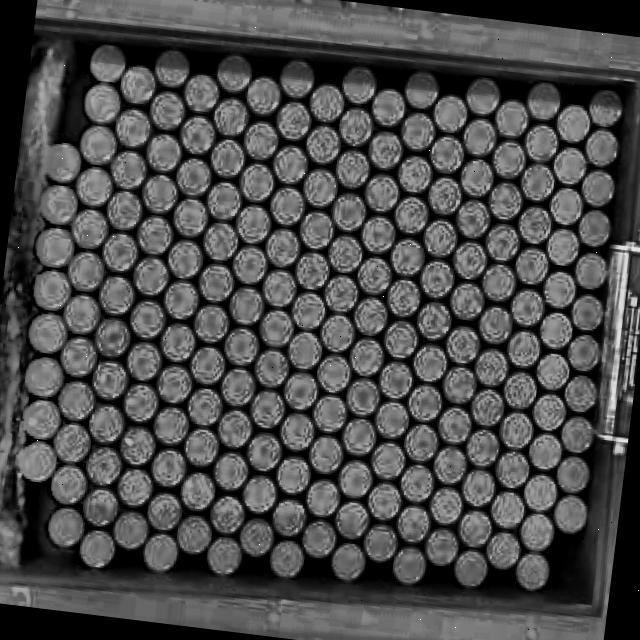vial: (492, 449, 531, 490), (124, 339, 162, 381), (87, 404, 126, 444), (298, 209, 336, 250), (159, 321, 197, 362), (141, 533, 178, 575), (217, 408, 254, 450), (155, 363, 193, 403), (234, 203, 272, 243), (289, 290, 327, 330), (310, 393, 348, 433), (337, 459, 375, 499), (47, 507, 84, 548), (123, 381, 159, 423), (330, 542, 366, 584), (40, 185, 78, 224), (244, 432, 282, 471), (272, 144, 309, 184), (212, 96, 249, 136), (77, 165, 114, 205), (43, 142, 80, 182), (26, 357, 63, 397), (112, 510, 149, 550), (189, 346, 226, 386), (231, 244, 268, 284), (294, 250, 331, 290), (258, 308, 295, 348), (223, 326, 260, 366), (219, 366, 256, 406), (472, 347, 509, 387), (64, 294, 100, 335), (253, 348, 289, 389), (374, 398, 410, 439), (241, 473, 277, 514), (399, 463, 435, 504), (239, 516, 275, 557), (452, 549, 488, 590), (502, 370, 538, 411), (460, 467, 496, 508), (30, 313, 65, 355), (275, 454, 310, 496), (553, 493, 588, 535), (369, 442, 407, 480), (98, 276, 135, 315), (23, 400, 60, 439), (555, 454, 592, 493), (522, 472, 559, 511), (309, 82, 345, 122), (183, 72, 219, 112), (111, 150, 147, 190), (80, 124, 116, 164), (137, 215, 173, 255), (72, 209, 108, 249), (187, 387, 223, 427), (264, 228, 300, 268), (228, 286, 264, 326), (308, 434, 344, 474), (320, 312, 355, 353), (217, 52, 252, 93), (280, 411, 315, 452), (250, 389, 285, 430), (334, 500, 369, 541), (367, 480, 402, 521), (392, 545, 427, 586), (88, 43, 125, 81), (49, 466, 86, 504), (305, 125, 341, 164), (275, 102, 311, 141), (102, 233, 138, 272), (120, 426, 156, 465), (82, 487, 118, 526), (210, 495, 246, 534), (315, 353, 351, 392), (406, 383, 442, 422), (437, 404, 473, 443), (528, 432, 564, 471), (458, 509, 494, 548), (342, 65, 377, 105), (238, 162, 273, 202), (246, 74, 281, 114), (37, 227, 72, 267), (86, 446, 121, 486), (287, 331, 322, 371), (349, 336, 384, 376), (378, 359, 413, 399), (305, 477, 340, 517), (301, 519, 336, 559), (269, 539, 304, 579), (363, 523, 398, 563), (490, 489, 525, 529), (485, 530, 520, 570), (433, 93, 467, 134), (404, 68, 438, 109), (214, 450, 248, 491), (202, 222, 239, 259), (34, 272, 71, 309), (302, 169, 338, 207), (210, 139, 246, 177), (176, 157, 212, 195), (115, 109, 151, 147), (133, 257, 169, 295), (58, 381, 94, 419), (79, 530, 115, 568), (464, 430, 500, 468), (394, 195, 429, 234), (401, 111, 436, 150), (368, 131, 403, 170), (339, 107, 374, 146), (150, 90, 185, 129), (142, 174, 177, 213), (85, 83, 120, 122), (69, 251, 104, 290), (95, 318, 130, 357), (61, 339, 96, 378), (151, 447, 186, 486), (262, 269, 297, 308), (283, 371, 318, 410), (413, 343, 448, 382), (404, 423, 439, 462), (442, 365, 477, 404), (564, 374, 599, 413), (469, 388, 504, 427), (519, 512, 554, 551), (555, 103, 589, 143), (417, 301, 451, 341), (390, 236, 424, 276), (466, 76, 500, 116), (335, 149, 369, 189), (371, 87, 405, 127), (280, 58, 314, 98), (22, 441, 56, 481), (342, 417, 376, 457), (396, 504, 430, 544), (425, 527, 459, 567), (429, 485, 463, 525), (515, 552, 549, 592), (193, 305, 229, 342), (53, 424, 89, 461), (153, 407, 189, 444), (455, 199, 490, 237), (244, 121, 279, 159), (181, 116, 216, 154), (168, 239, 203, 277), (92, 361, 127, 399), (117, 468, 152, 506), (488, 182, 522, 221), (424, 218, 458, 257), (121, 64, 155, 103), (147, 133, 181, 172), (107, 191, 141, 230), (345, 378, 379, 417), (433, 446, 467, 485), (536, 352, 570, 391), (354, 296, 387, 336), (495, 97, 527, 138), (570, 293, 606, 329), (357, 257, 393, 293), (449, 282, 484, 319), (198, 264, 233, 301), (172, 199, 207, 236), (147, 492, 182, 529), (184, 428, 219, 465), (578, 210, 612, 248), (523, 124, 557, 162), (361, 216, 395, 254), (463, 118, 497, 156), (397, 155, 431, 193), (131, 300, 165, 338), (272, 498, 306, 536), (182, 471, 215, 510), (533, 392, 566, 431), (499, 411, 532, 450), (548, 188, 582, 225), (421, 260, 455, 297), (332, 193, 366, 230), (270, 187, 304, 224), (208, 182, 242, 219), (155, 49, 189, 86), (585, 128, 618, 166), (527, 83, 560, 121), (553, 147, 586, 185), (491, 140, 524, 178), (385, 320, 418, 358), (329, 234, 362, 272), (364, 174, 397, 212), (461, 158, 494, 196), (178, 515, 211, 553), (561, 415, 594, 453), (519, 205, 551, 244), (512, 287, 544, 326), (479, 305, 511, 344), (515, 248, 549, 284), (324, 275, 358, 311), (452, 242, 486, 278), (485, 224, 519, 260), (589, 89, 622, 126), (575, 252, 608, 289), (521, 164, 554, 201), (547, 228, 580, 265), (446, 325, 479, 362), (429, 177, 462, 214), (164, 281, 197, 318), (208, 537, 241, 574), (482, 264, 514, 302), (567, 335, 601, 370), (581, 170, 614, 206), (387, 280, 420, 316), (540, 312, 572, 349), (430, 136, 462, 173), (544, 270, 575, 308), (507, 331, 539, 367)
